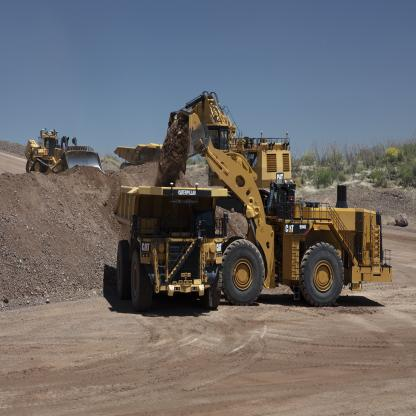bull_dozer/loader/grader: (167, 106, 400, 319), (22, 119, 113, 205)
dump_truck: (113, 178, 224, 312), (113, 132, 165, 173)
